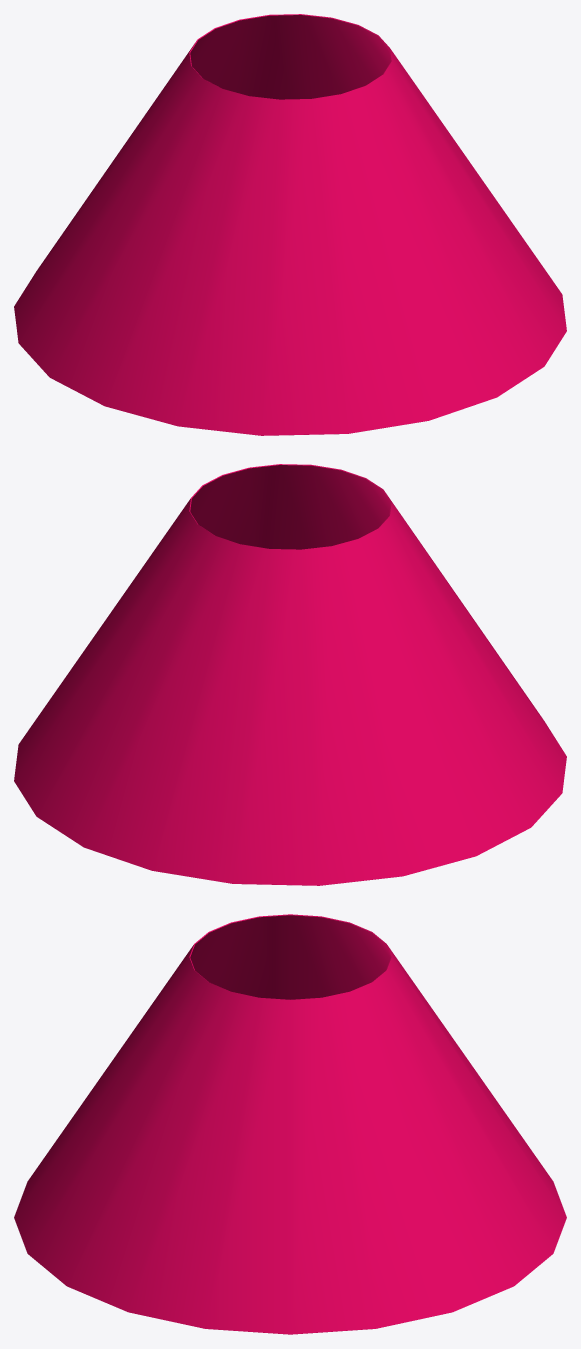
File: Lamp_05_Shade_AutoIllum.fbx
3 views of the same model, one above another, from view 1: azimuth 30°, elevation 25°; view 2: azimuth 150°, elevation 25°; view 3: azimuth 270°, elevation 25° (orthographic).
Visible parts, largest first — view 1: Lamp_05_Shade_AutoIllum; view 2: Lamp_05_Shade_AutoIllum; view 3: Lamp_05_Shade_AutoIllum.
Boxes of the visible parts, box(x1,y1,x2,y2) form: Lamp_05_Shade_AutoIllum: box(14, 14, 566, 435); Lamp_05_Shade_AutoIllum: box(14, 464, 566, 885); Lamp_05_Shade_AutoIllum: box(14, 914, 566, 1334).
Bounding box in the file's own units: 53.35 × 27.8 × 53.35.
